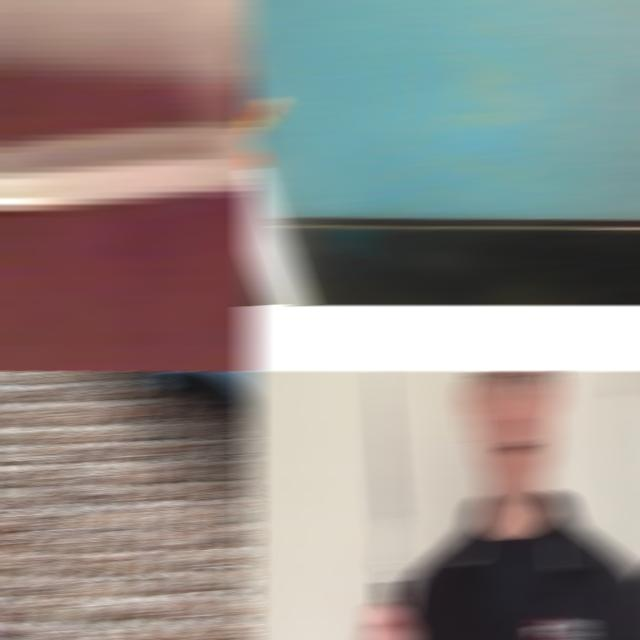Knife: (243, 142, 308, 306)
Knife_Handle: (0, 0, 255, 319), (358, 371, 420, 640)
